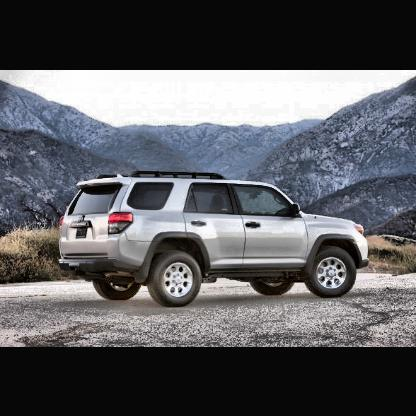Toyota 4Runner SUV 2012: (59, 169, 372, 308)
